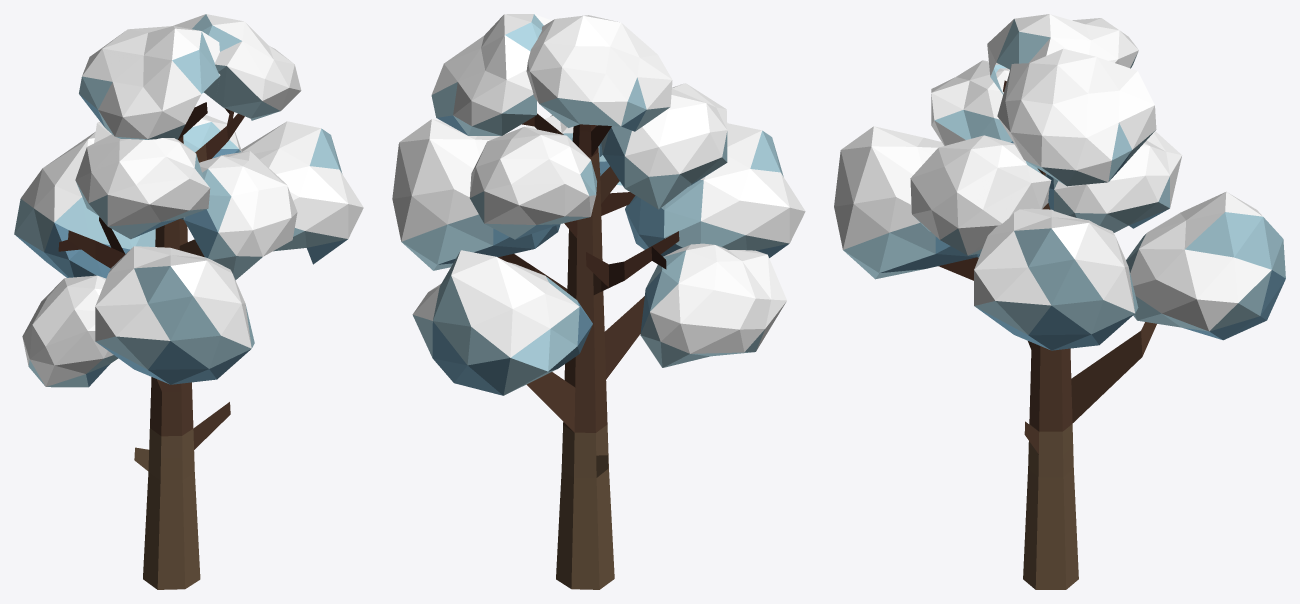
File: treeOak1.glb
3 renders of one model, left to right at view 1: azimuth 30°, elevation 25°; view 2: azimuth 150°, elevation 25°; view 3: azimuth 270°, elevation 25°, orthographic. The views are drawn at different scales.
Parts seen in each view (by area): view 1: bushLarge (×3), bushMedium (×4), bushTop (×2), treeBase; view 2: bushLarge (×3), bushMedium (×3), bushTop (×2), treeBase; view 3: bushLarge (×3), bushMedium (×3), bushTop (×2), treeBase.
Part boxes in pixels (x1,y1,x2,y2): bushLarge (×3): [14, 121, 363, 384]; bushMedium (×4): [22, 115, 297, 387]; bushTop (×2): [79, 14, 301, 139]; treeBase: [58, 102, 244, 589]; bushLarge (×3): [392, 119, 805, 395]; bushMedium (×3): [469, 83, 786, 367]; bushTop (×2): [431, 14, 672, 135]; treeBase: [498, 113, 679, 589]; bushLarge (×3): [834, 126, 1285, 350]; bushMedium (×3): [910, 60, 1181, 255]; bushTop (×2): [987, 14, 1156, 186]; treeBase: [938, 80, 1156, 589].
Bounding box in the file's own units: 9.74 × 15.37 × 11.11.
2 materials, 2 textured.
